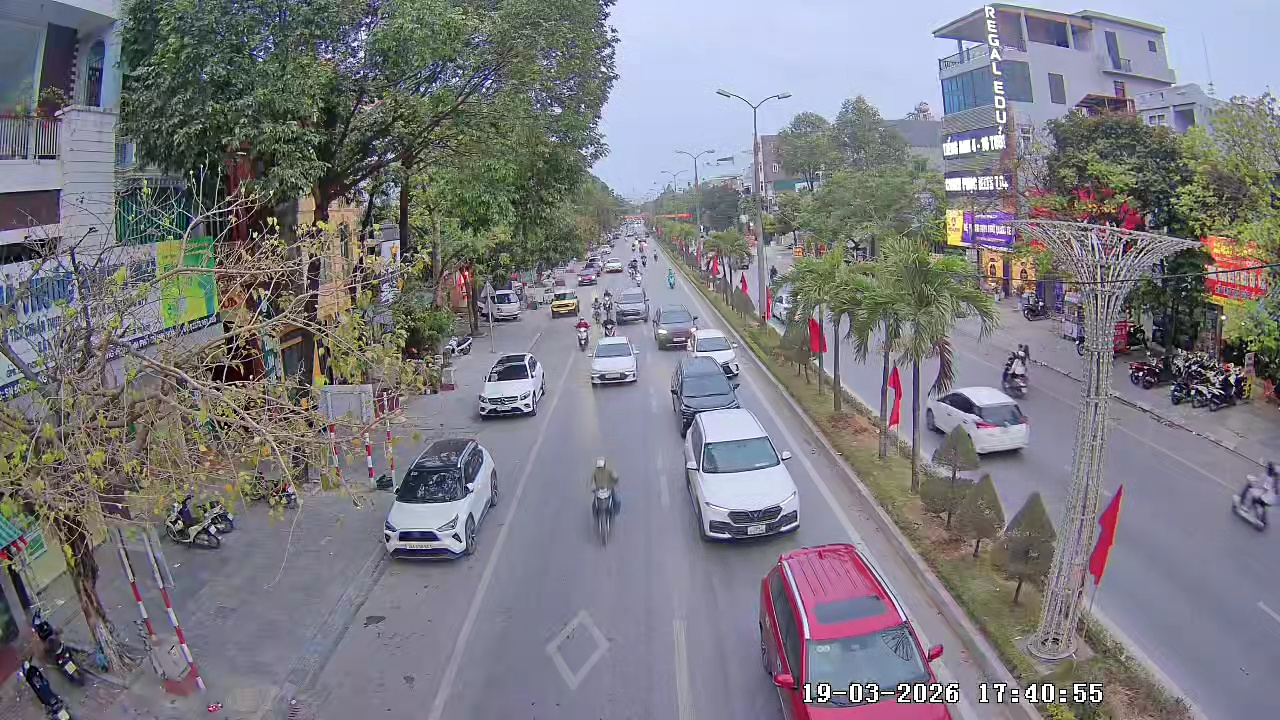car: (756, 544, 957, 719), (681, 407, 801, 542), (383, 437, 501, 561), (926, 384, 1030, 461), (668, 355, 739, 438), (476, 352, 546, 418), (589, 336, 641, 387), (651, 305, 698, 351), (688, 326, 733, 374), (611, 288, 650, 326), (550, 288, 579, 317)
motorbike: (585, 456, 624, 547), (1230, 465, 1276, 533), (1001, 354, 1030, 398), (574, 315, 591, 351)
